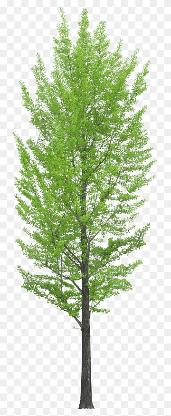tree: (9, 3, 157, 413)
